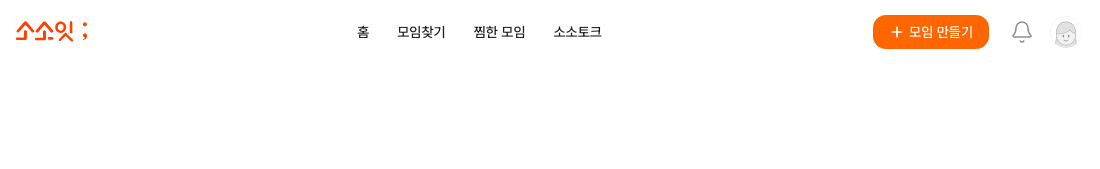
it: NavigationBar › 프로필 드롭다운 › 프로필 버튼 클릭 시 드롭다운이 열린다
Click the button named "프로필 메뉴". click: (1066, 32)
box: [1050,16,1082,48]
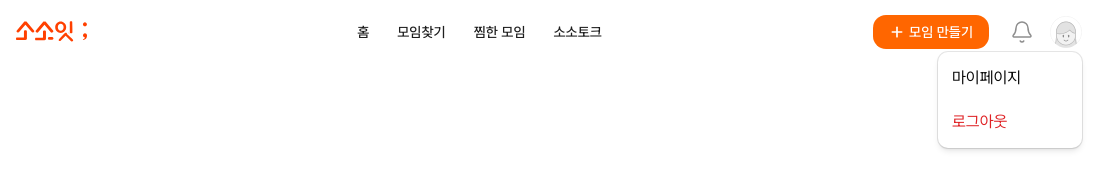
Now the menu item "로그아웃" is shown, box [952,112,1007,131]
